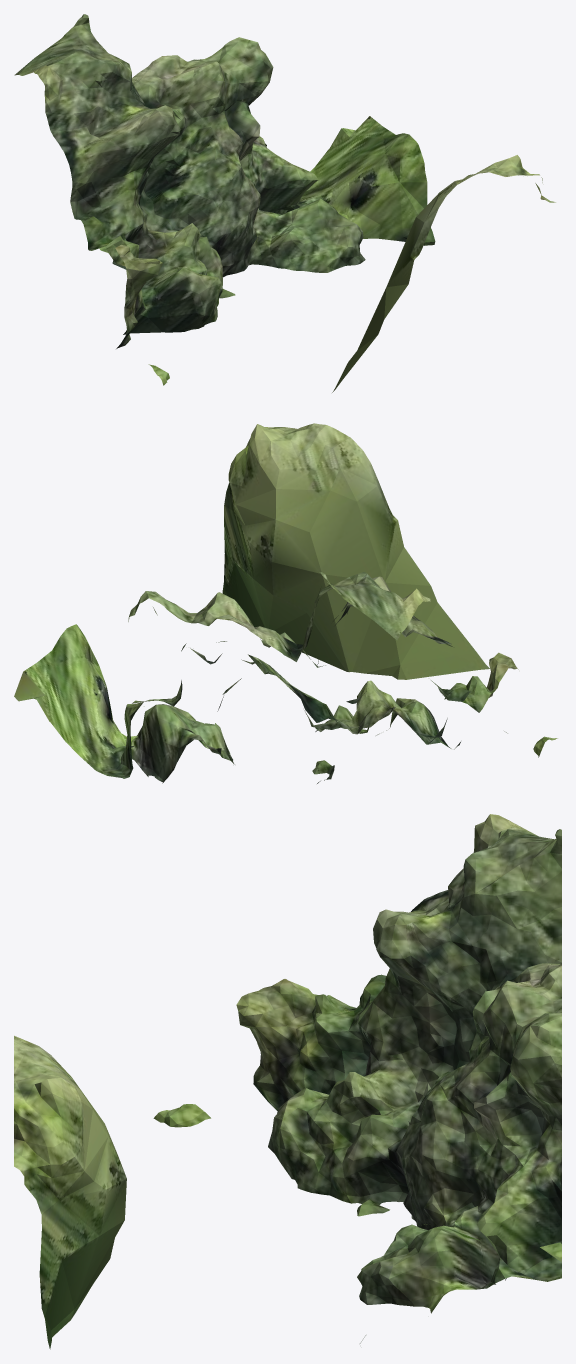
3 views of the same model, one above another, from view 1: azimuth 30°, elevation 25°; view 2: azimuth 150°, elevation 25°; view 3: azimuth 270°, elevation 25° (orthographic). The views are drawn at different scales.
Size of the model in its own units: 26.11 by 17.64 by 26.11.
Materials: 3 (3 with a texture image).
